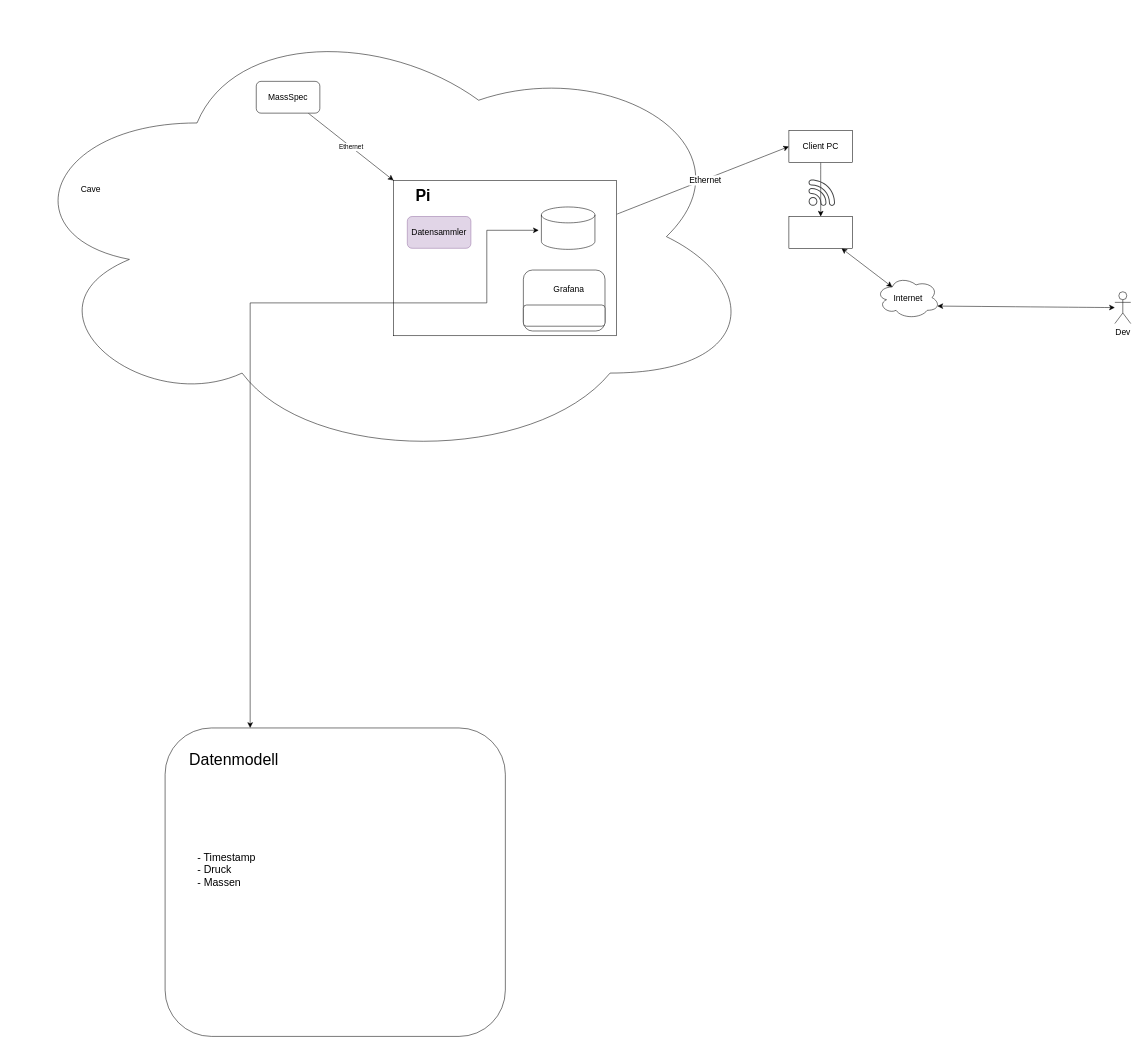
The diagram is 1140 pixels wide and 1046 high, and some of its shapes have lost their labels. The shapes that lost their labels are listed below. From the top down, each one's centre as x and y in pixels, then its label:
pixel 568 227: Postgres
pixel 820 232: Wifi Hotspot/GSI WLAN
pixel 564 315: Dashboard/Controls
